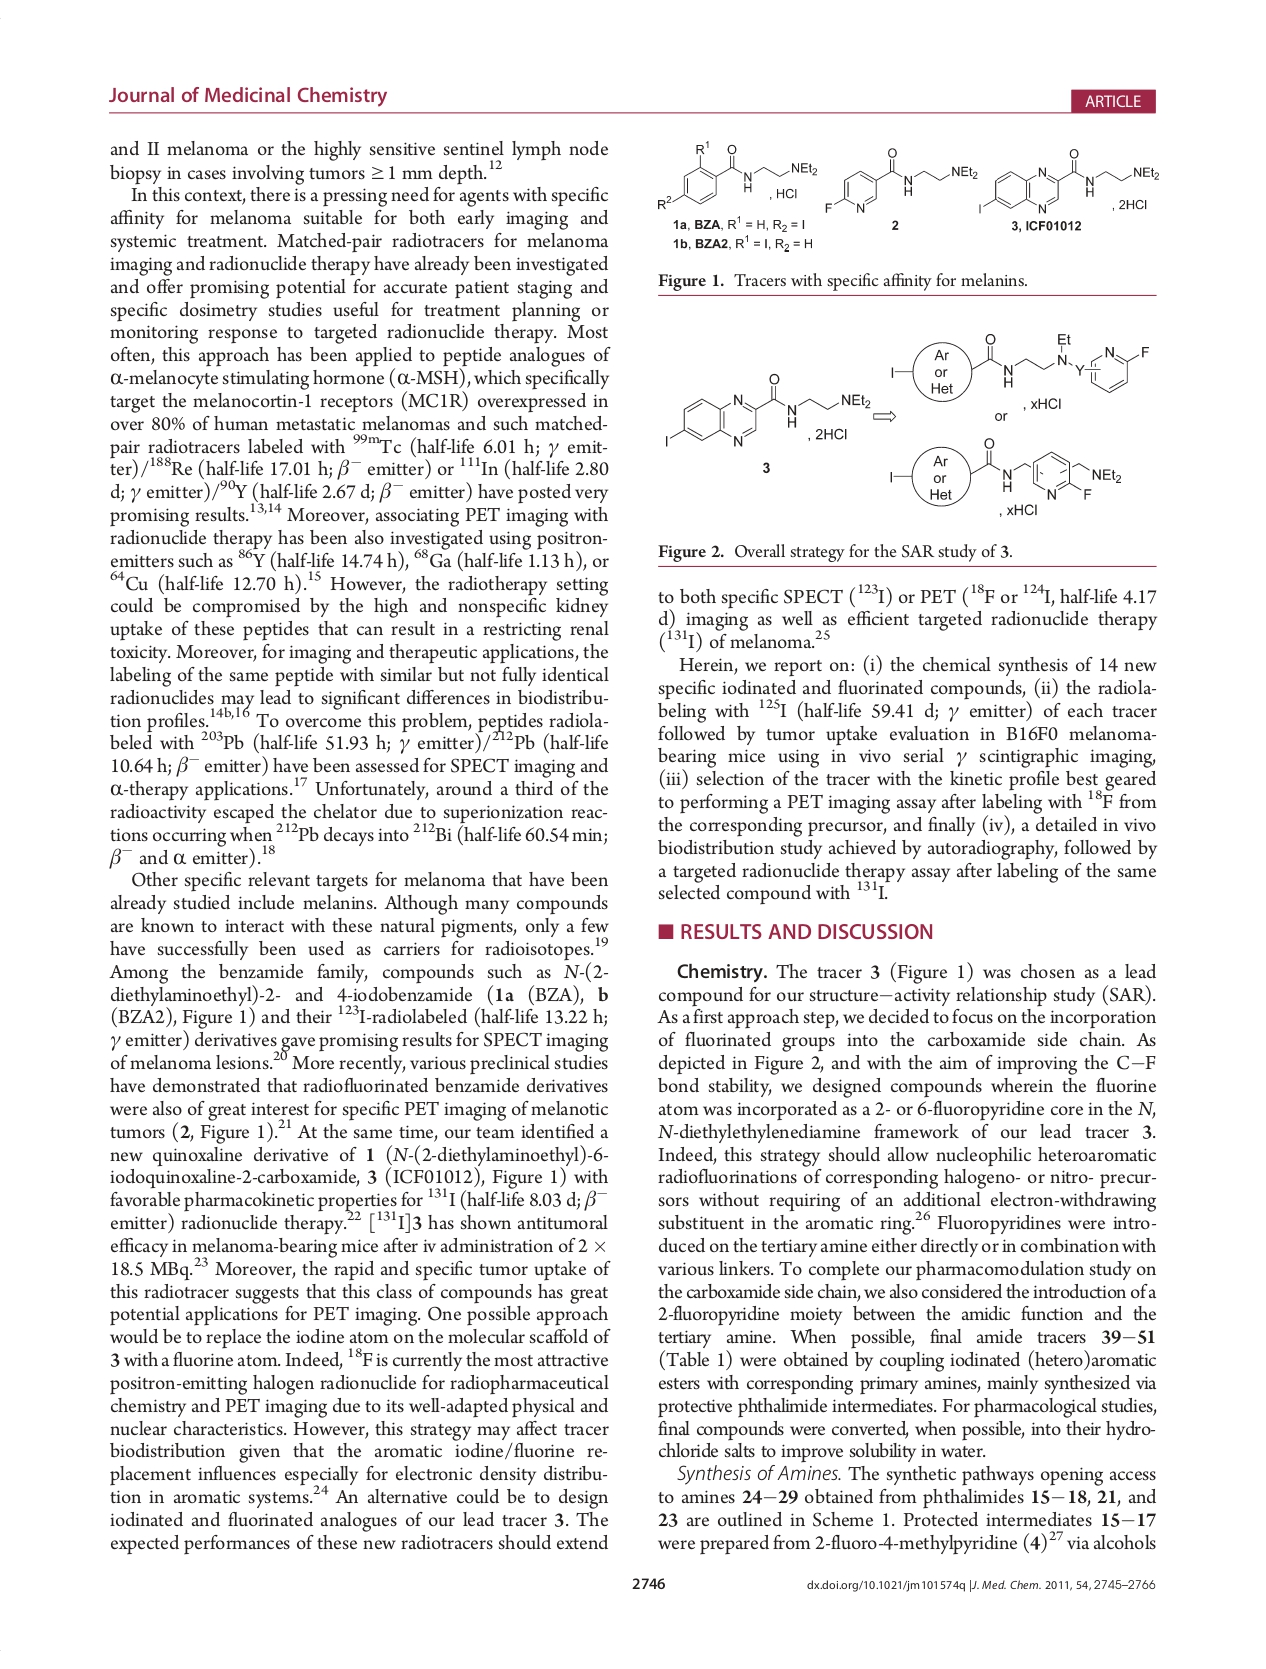exist_molecular: (888, 327, 1153, 402), (884, 434, 1122, 507), (664, 370, 872, 447), (977, 145, 1161, 215), (656, 138, 818, 210), (824, 145, 979, 215)
